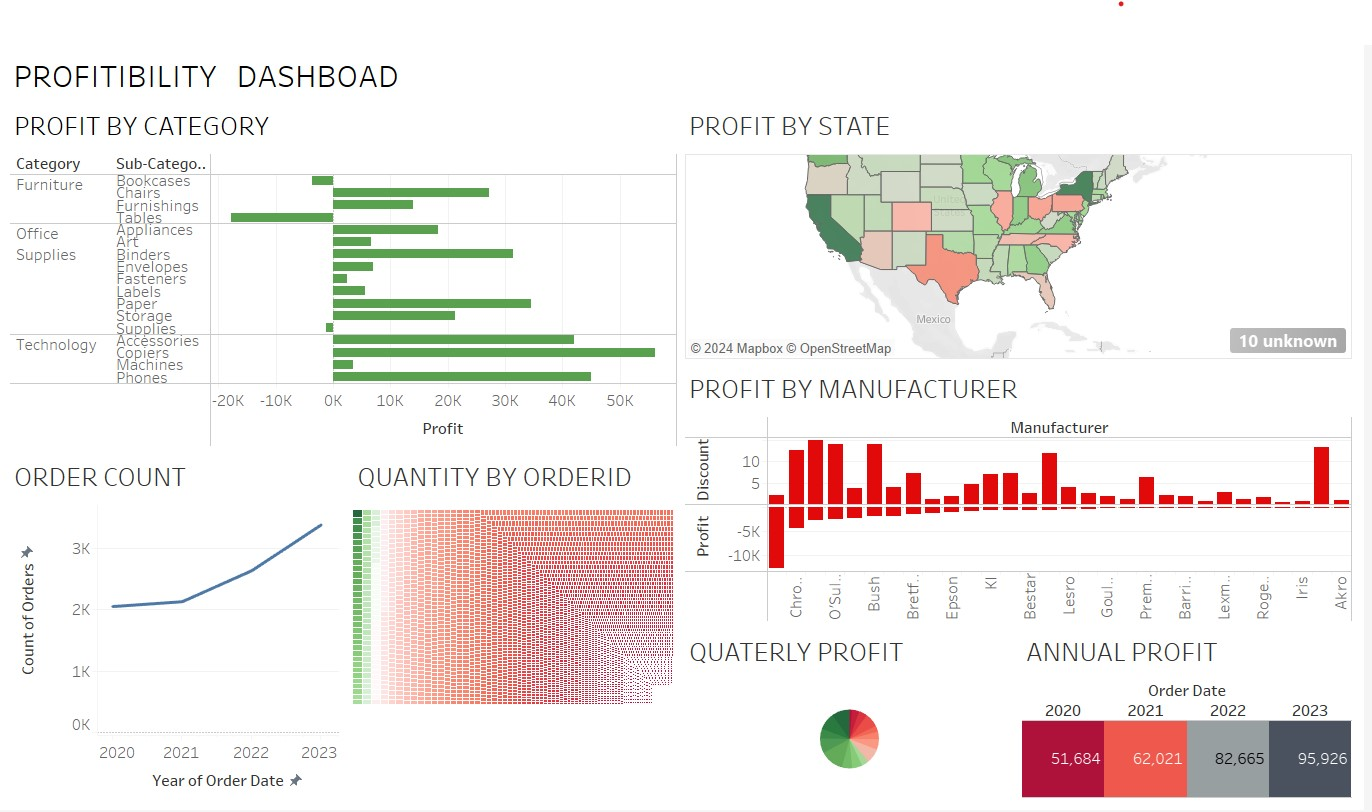

What the dashboard file says about the page in this screenshot:
{"tool":"tableau","page":{"name":"PROFITIBILIY DASHBOARD","canvas":[1366,768],"ordinal":0},"visuals":[{"type":"title","box":[8,8,1350,50]},{"type":"worksheet","title":"PROFIT BY CATEGORY","mark":"Automatic","rows":["Category","Sub-Category"],"cols":["Profit"],"box":[8,58,675,351]},{"type":"worksheet","title":"PROFIT BY STATE","mark":"Automatic","box":[683,58,675,263.2]},{"type":"worksheet","title":"PROFIT BY MANUFACTURER","mark":"Automatic","rows":["Discount","Profit"],"box":[683,321.2,675,263.2]},{"type":"worksheet","title":"ORDER COUNT","mark":"Automatic","rows":["Orders_ECFCA1FB690A41FE803BC071773BA862"],"cols":["Order Date"],"box":[8,409,337.5,351]},{"type":"worksheet","title":" QUANTITY BY ORDERID","mark":"Automatic","box":[345.5,409,337.5,351]},{"type":"worksheet","title":"QUATERLY PROFIT","mark":"Pie","box":[683,584.5,337.5,175.5]},{"type":"worksheet","title":"ANNUAL PROFIT","mark":"Square","cols":["Order Date"],"box":[1020.5,584.5,337.5,175.5]}]}

Visuals, with their boxes on the page's 1366x768 design canvas (x1, y1, x2, y2). These are canvas units, not pixel positions in the 1372x812 screenshot, which may show the page scaled, cropped or inside an application window:
title: (8,8,1358,58)
"PROFIT BY CATEGORY" worksheet: (8,58,683,409)
"PROFIT BY STATE" worksheet: (683,58,1358,321)
"PROFIT BY MANUFACTURER" worksheet: (683,321,1358,584)
"ORDER COUNT" worksheet: (8,409,346,760)
" QUANTITY BY ORDERID" worksheet: (346,409,683,760)
"QUATERLY PROFIT" worksheet (Pie marks): (683,584,1020,760)
"ANNUAL PROFIT" worksheet (Square marks): (1020,584,1358,760)
